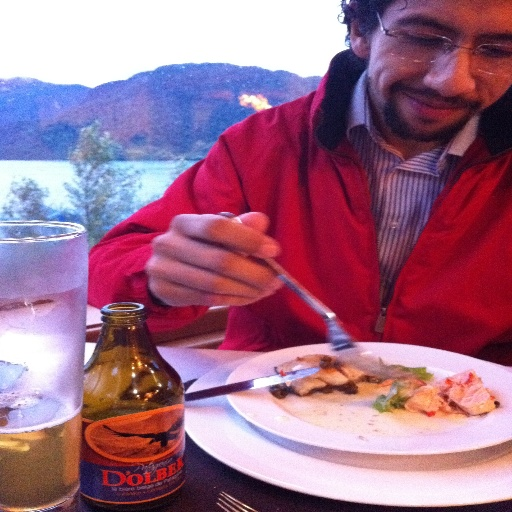hand: (139, 201, 309, 312)
